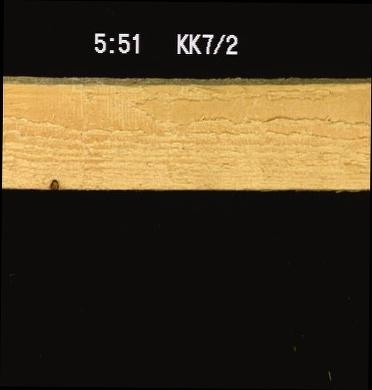edge_knot: (46, 176, 60, 192)
